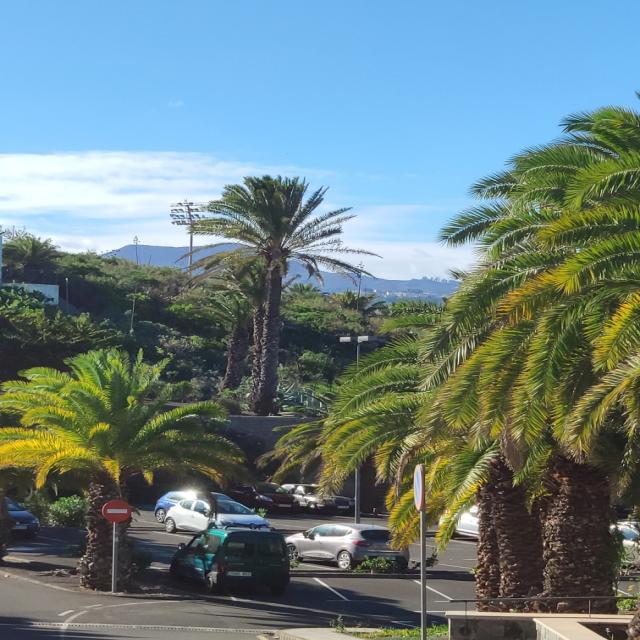Palm-Trees: (2, 348, 235, 588), (180, 174, 370, 415)
